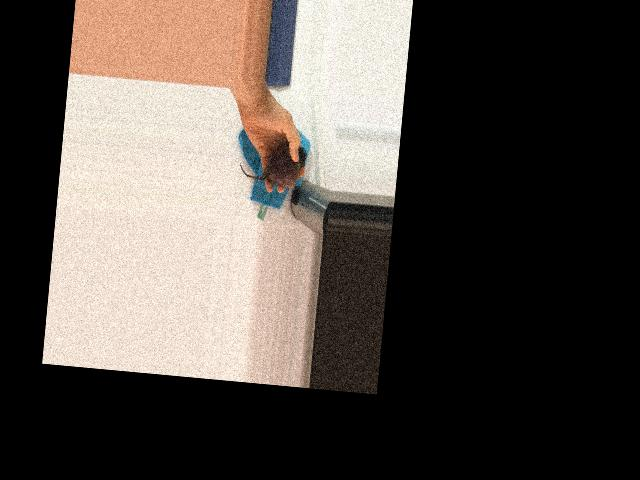beet: (237, 137, 307, 190)
